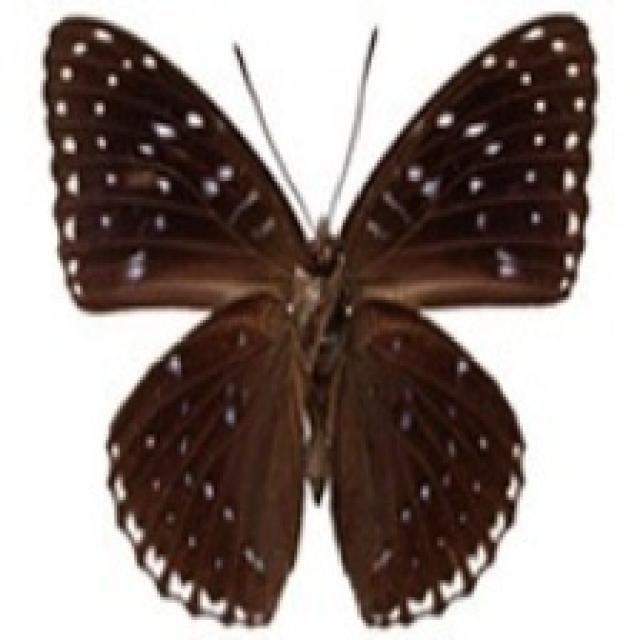butterfly: (40, 11, 597, 628)
